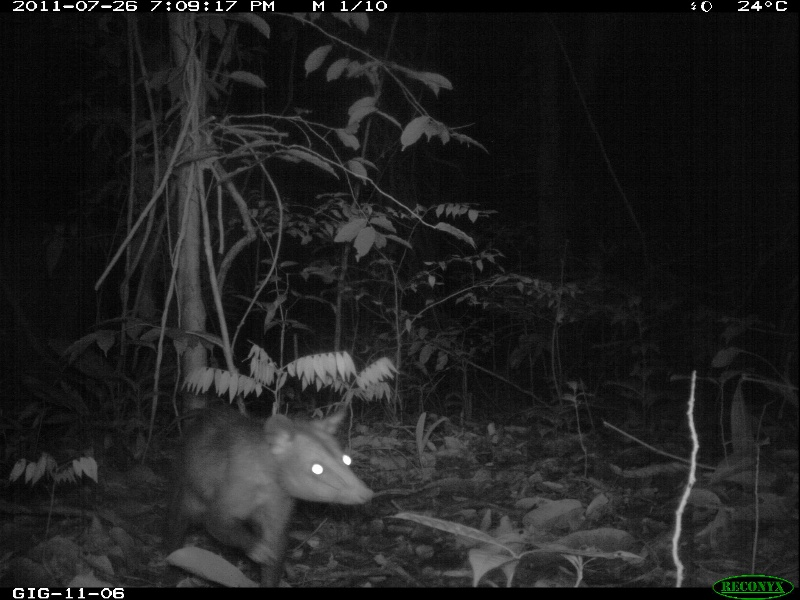opossum: (78, 397, 377, 575)
